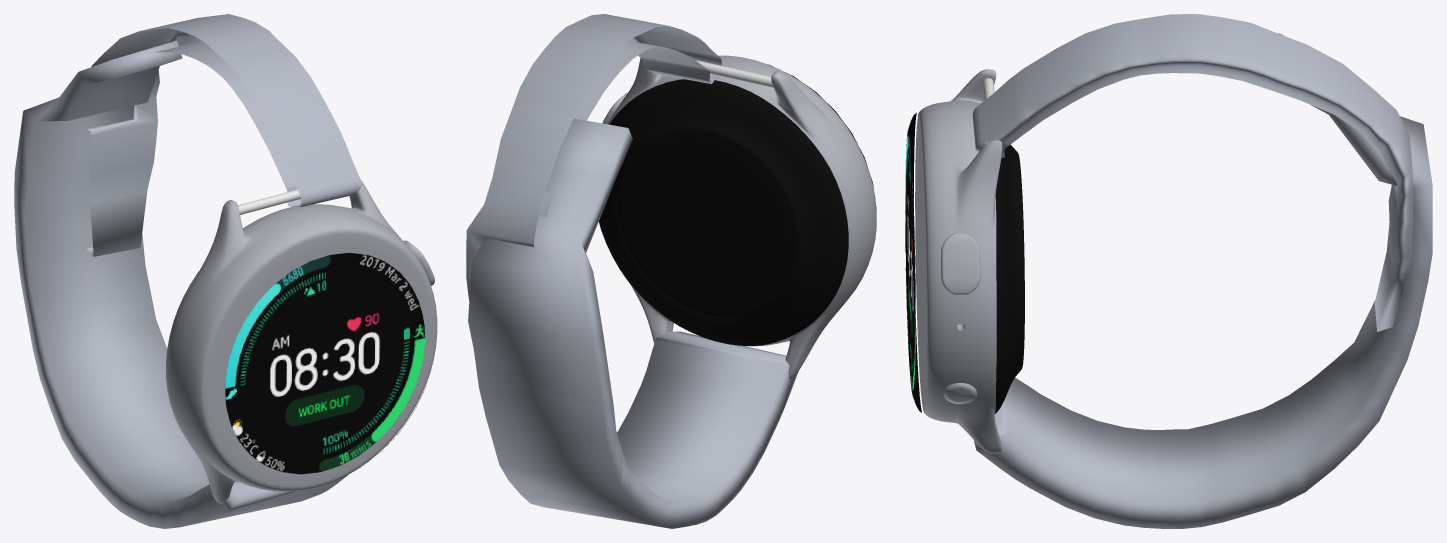
Rendered from second_watch.glb.
3 views of the same model, side by side, from view 1: azimuth 30°, elevation 25°; view 2: azimuth 150°, elevation 25°; view 3: azimuth 270°, elevation 25° (orthographic). The views are drawn at different scales.
Visible parts, largest first — view 1: LowerBelt, Glass, Frame, UpperBelt, UpperTube; view 2: LowerBelt, Frame, UpperBelt, UpperTube; view 3: LowerBelt, Frame, UpperBelt, Glass, UpperButton.
Boxes of the visible parts, <box> form: LowerBelt: <box>14,40,348,528</box>; Glass: <box>225,252,425,474</box>; Frame: <box>166,180,437,503</box>; UpperBelt: <box>87,14,361,256</box>; UpperTube: <box>238,189,300,214</box>; LowerBelt: <box>468,118,798,528</box>; Frame: <box>598,55,876,378</box>; UpperBelt: <box>466,14,721,300</box>; UpperTube: <box>696,60,773,87</box>; LowerBelt: <box>974,33,1432,528</box>; Frame: <box>915,69,1024,453</box>; UpperBelt: <box>972,14,1413,331</box>; Glass: <box>905,113,921,412</box>; UpperButton: <box>941,233,980,294</box>.
Size of the model in its own units: 0.9171 by 1.55 by 1.5.
5 materials, 1 textured.
